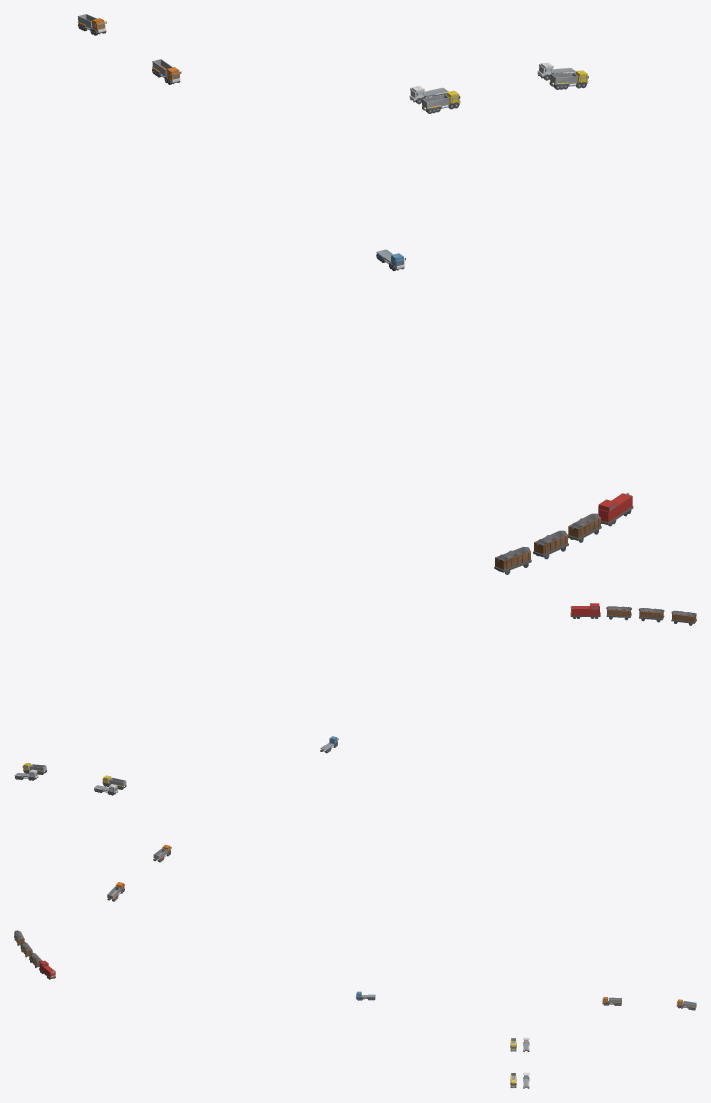
File: Vehicles_P1.fbx
3 renders of one model, top to bottom at view 1: azimuth 30°, elevation 25°; view 2: azimuth 150°, elevation 25°; view 3: azimuth 270°, elevation 25°, orthographic. The views are drawn at different scales.
Size of the model in its own units: 13796 by 778 by 27825.
